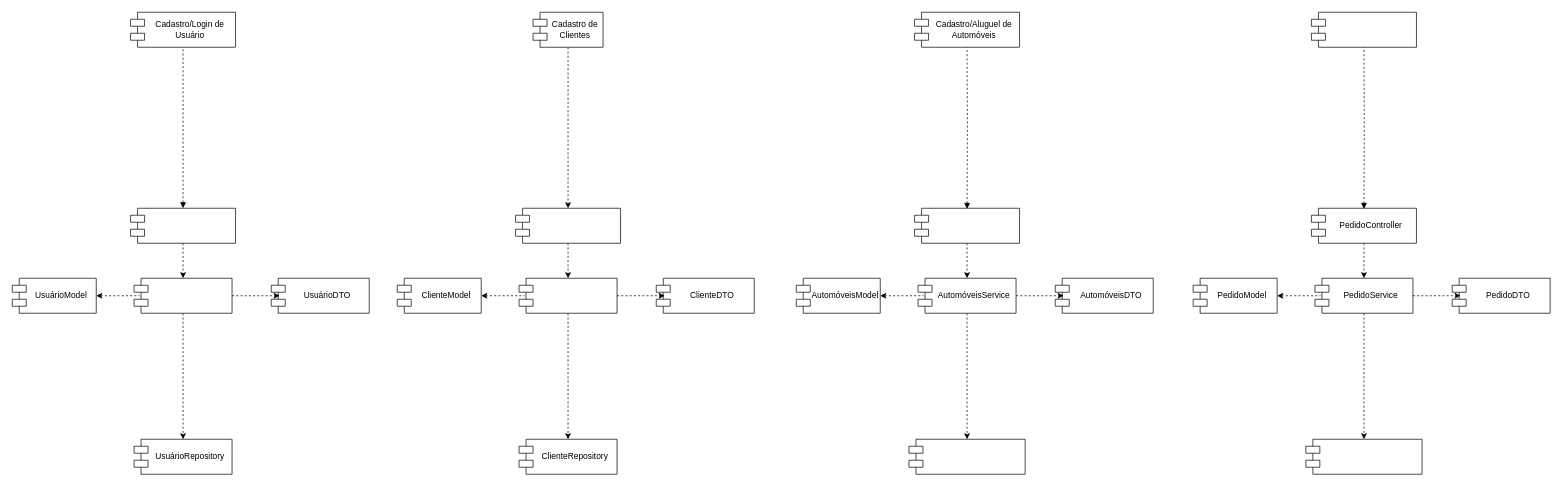
Some shapes in this 1562 by 487 pixel diagram are drawn without their labels. Each missing label, with the box of its shape:
AutomóveisController: (914, 208, 1020, 243)
AutomóveisRepository: (908, 439, 1025, 474)
Cadastro de Pedidos: (1311, 12, 1416, 47)
ClienteController: (515, 208, 621, 243)
ClienteService: (518, 278, 617, 313)
PedidoRepository: (1305, 439, 1422, 474)
UsuárioController: (130, 208, 236, 243)
UsuárioService: (133, 278, 232, 313)
